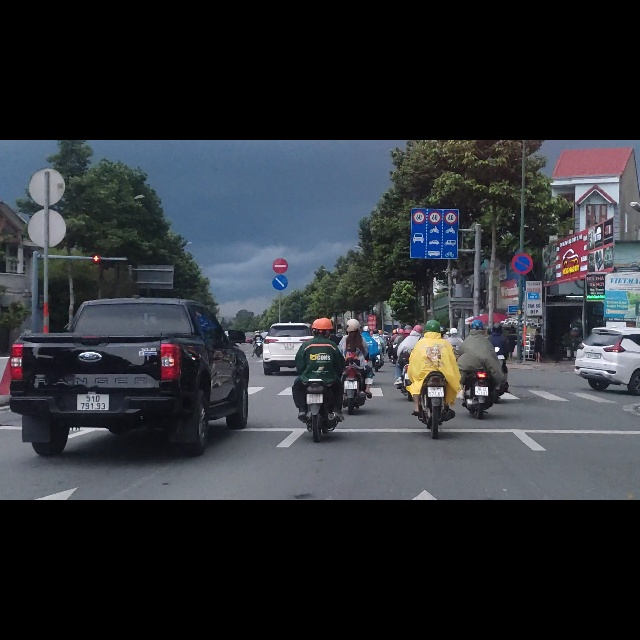bien_hieu_lenh: (409, 119, 460, 214), (510, 199, 534, 241), (272, 209, 288, 239), (272, 239, 288, 268)
